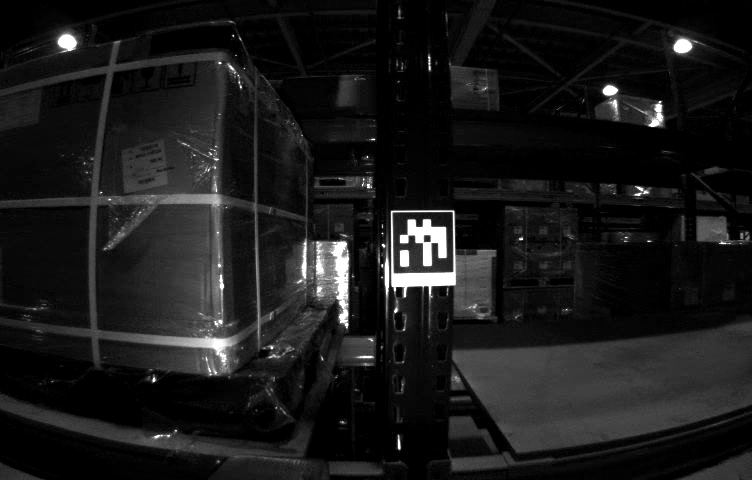True Barcode: (122, 140, 166, 197)
